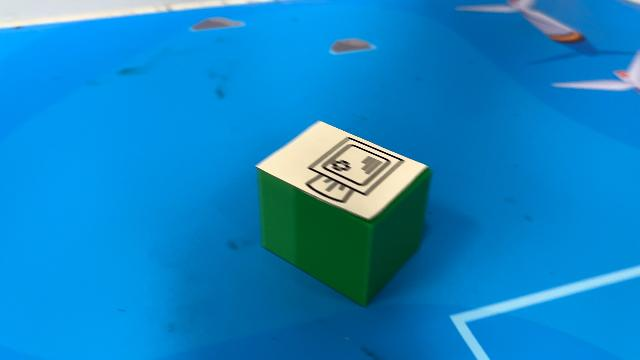napkin: (253, 117, 434, 307)
